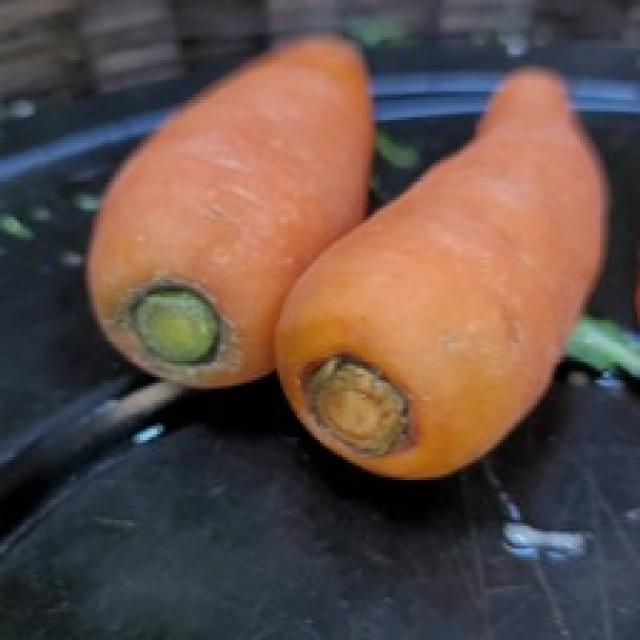Fresh_Carrot: (84, 39, 623, 466)
